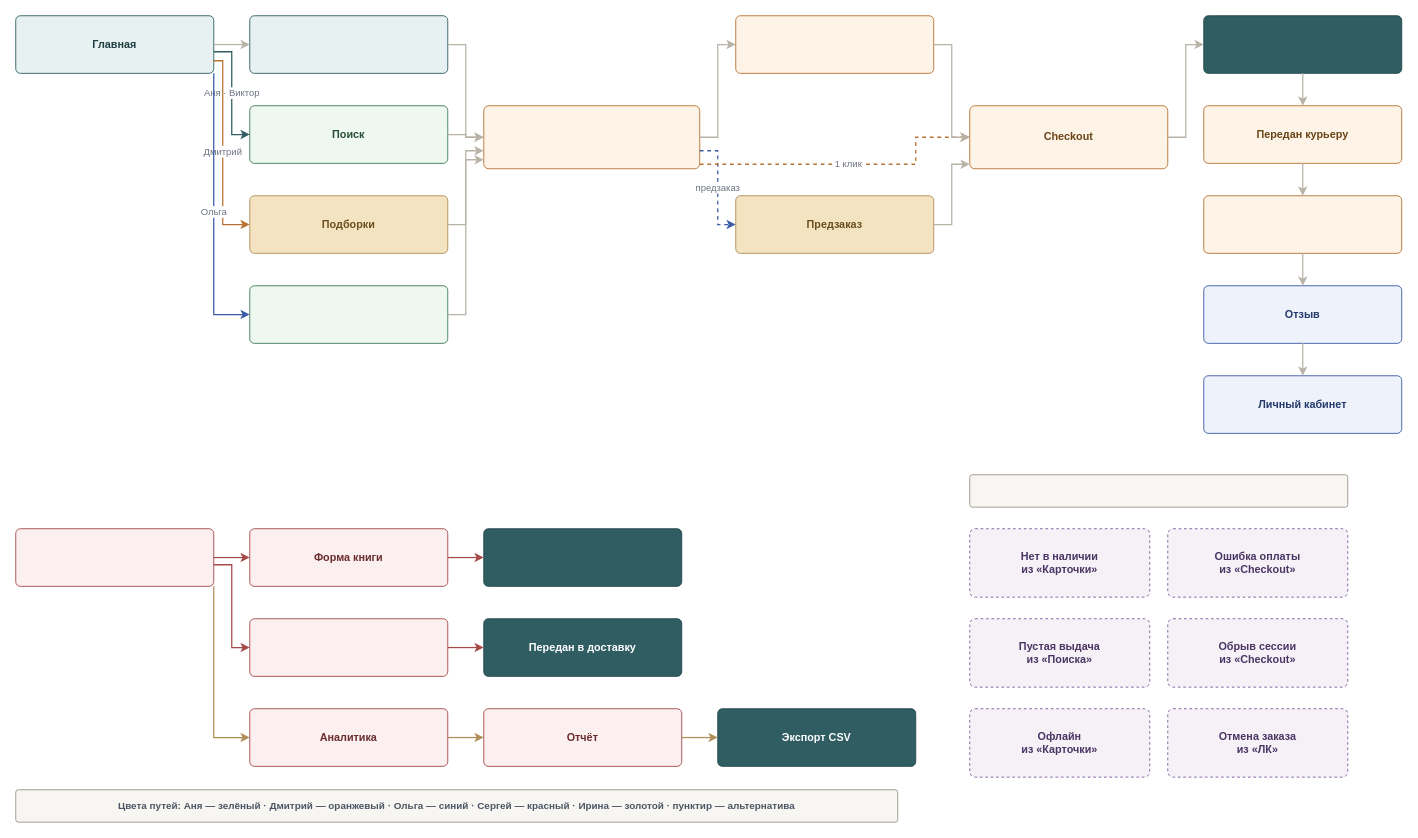
Some shapes in this 1418 by 838 pixel diagram are drawn without their labels. The centre of each missing label's shape, as x and y in pixels:
"/admin" belongs at (114,557).
"Доставлен" belongs at (1302,224).
"Заказ оформлен" belongs at (1302,44).
"Заказы" belongs at (348,647).
"Карточка книги" belongs at (591,137).
"Каталог" belongs at (348,44).
"Книга в каталоге" belongs at (582,557).
"Корзина" belongs at (834,44).
"Проверочные сценарии" belongs at (1158,490).
"Расширенный поиск" belongs at (348,314).
